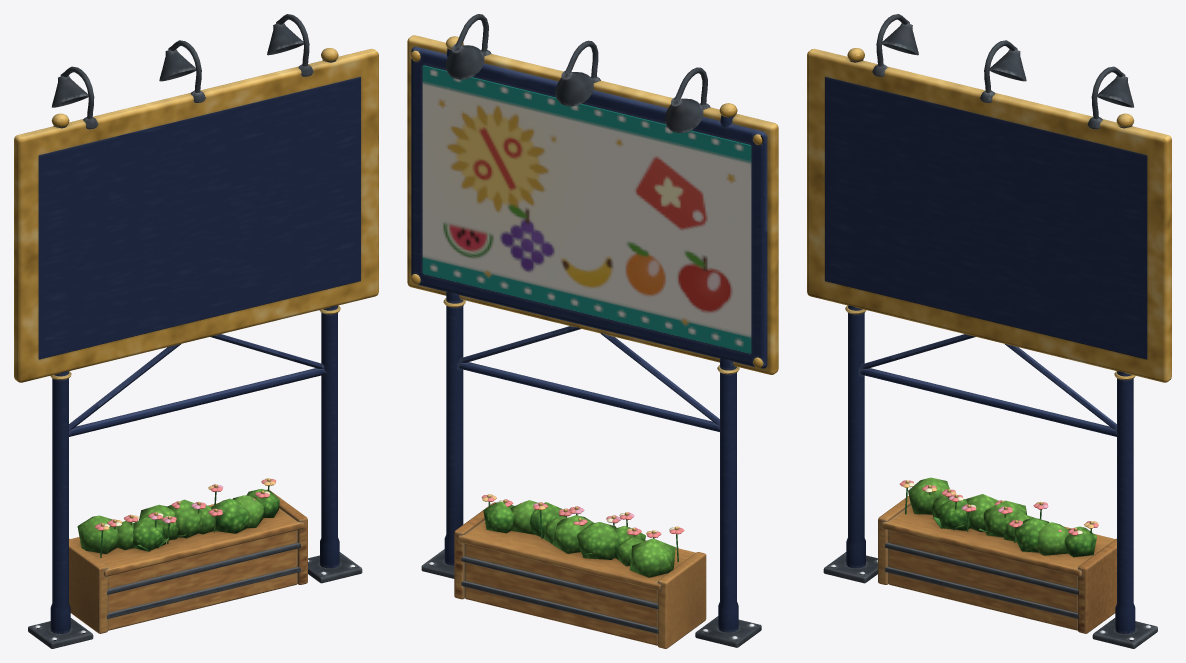
The model's file is billboard.fbx.
The picture shows the model from 3 angles, left to right: view 1: azimuth 30°, elevation 25°; view 2: azimuth 150°, elevation 25°; view 3: azimuth 330°, elevation 25°; orthographic projection.
Visible parts, largest first — view 1: Body, Anim Sway; view 2: Body, Anim Sway; view 3: Body, Anim Sway.
Boxes of the visible parts, box(x1,y1,x2,y2) form: Body: box(14, 14, 378, 648); Anim Sway: box(77, 478, 279, 557); Body: box(407, 14, 778, 648); Anim Sway: box(481, 494, 684, 577); Body: box(807, 14, 1171, 648); Anim Sway: box(899, 477, 1098, 557).
Bounding box in the file's own units: 1.88 × 2.76 × 0.4.
